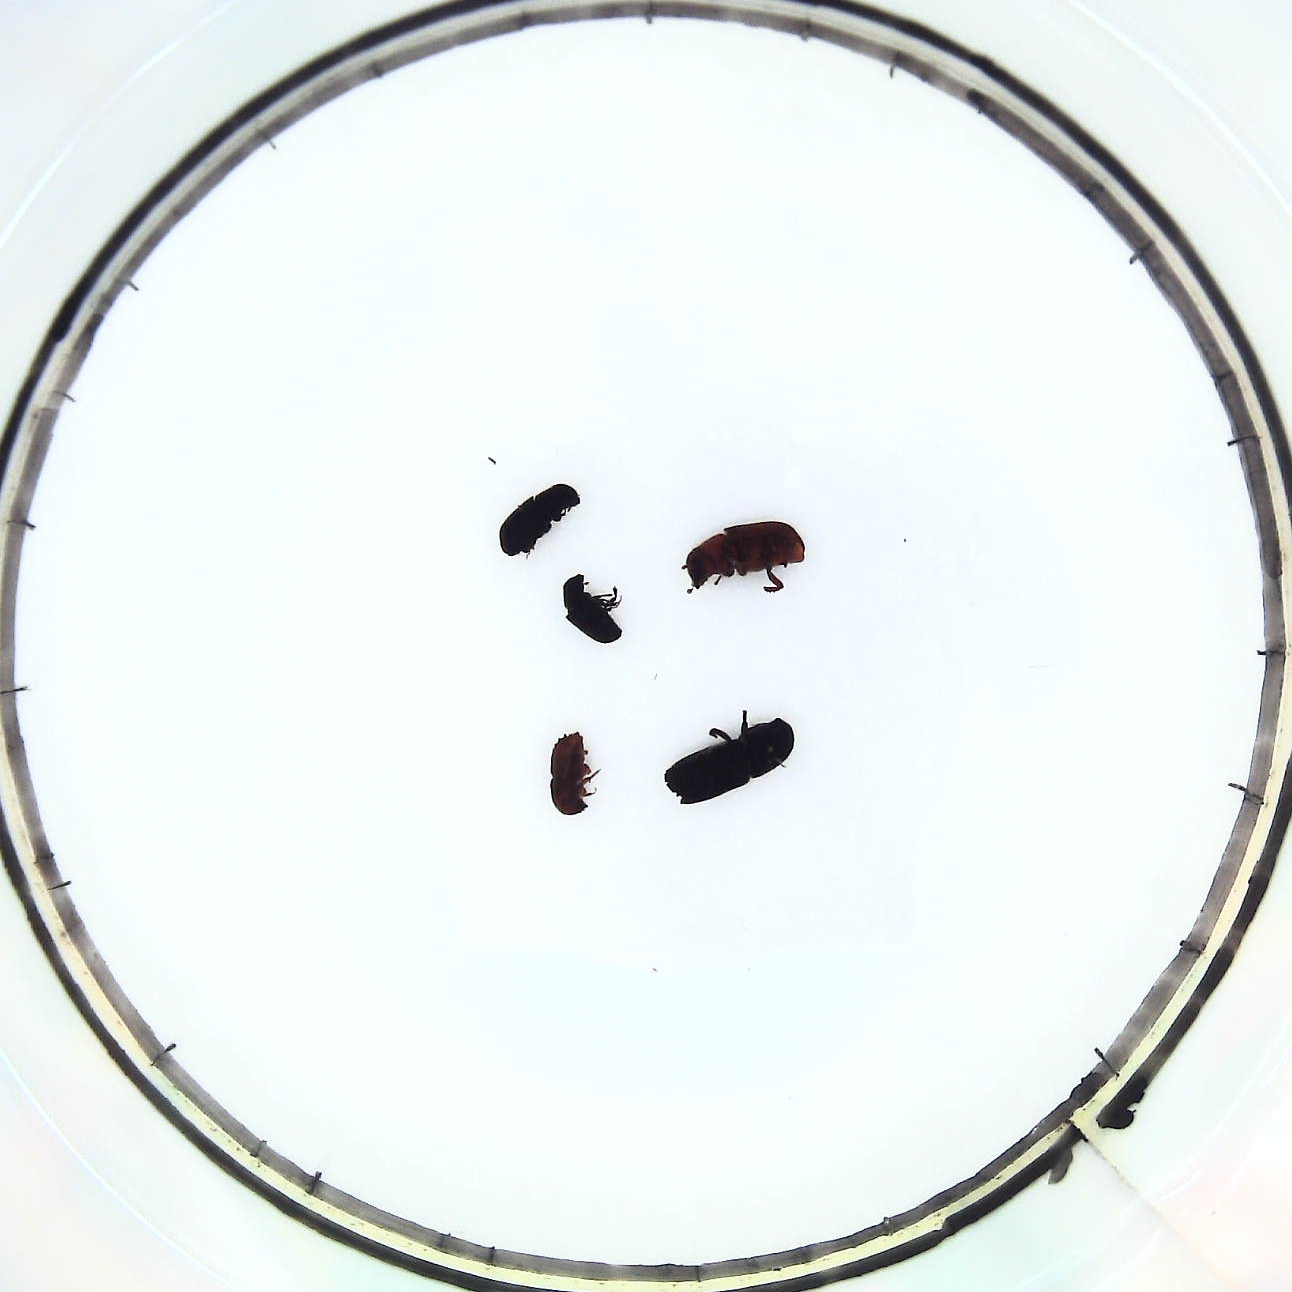Boerner: (659, 704, 797, 810)
Leconte: (681, 517, 812, 605)
armandi: (497, 478, 584, 561)
coleoptera: (560, 570, 634, 648)
linnaeus: (543, 726, 605, 823)
